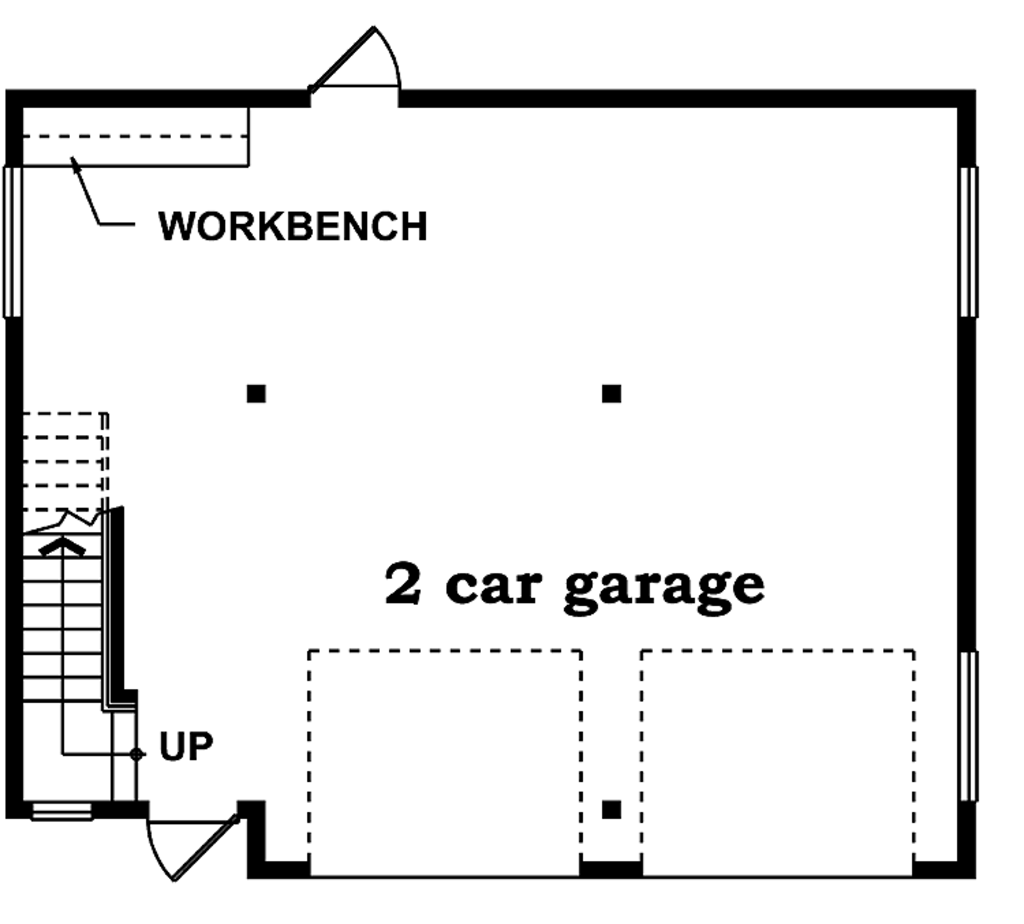door: (303, 5, 403, 106), (143, 805, 241, 888)
stairs: (19, 405, 144, 798)
window: (1, 164, 27, 315), (956, 167, 979, 316), (957, 647, 975, 801), (22, 787, 95, 823)
